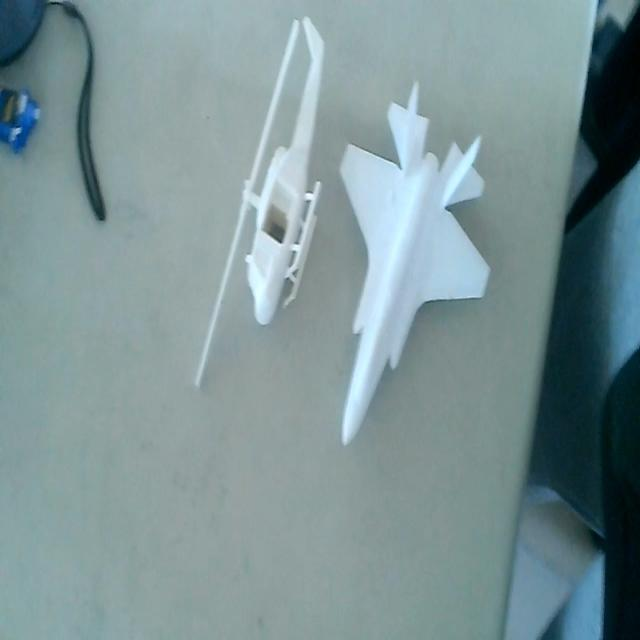Helicopter: (192, 11, 326, 400)
Jet: (338, 79, 494, 442)
